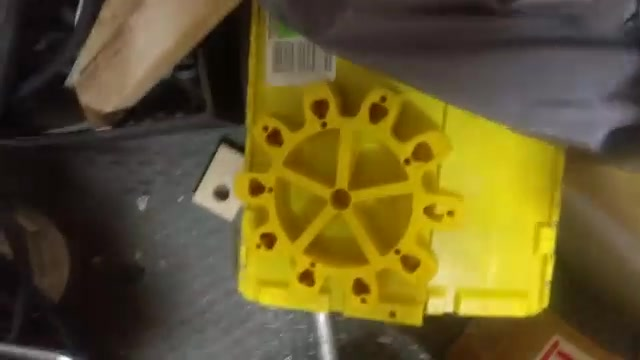gear: (236, 73, 475, 323)
